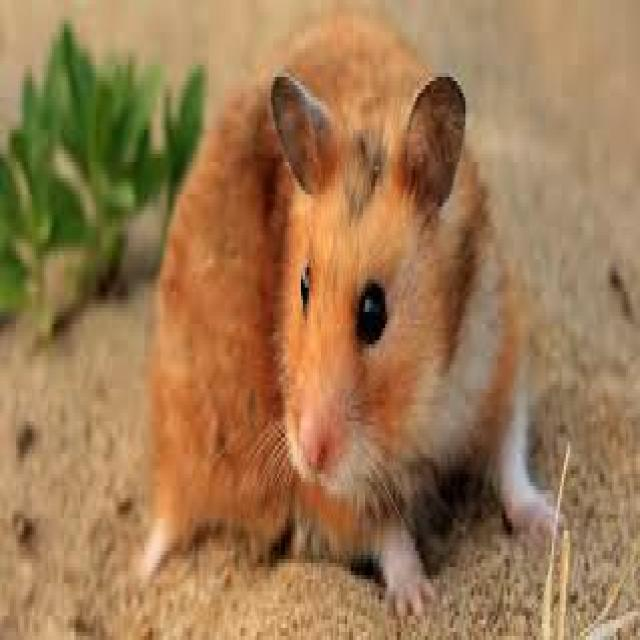hamster: (136, 12, 552, 608)
